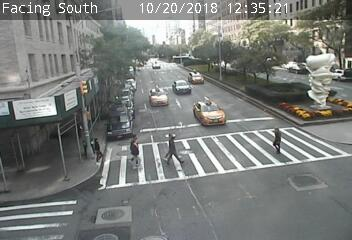car: (193, 101, 227, 125), (148, 89, 169, 106), (173, 81, 191, 94), (189, 72, 204, 84)
